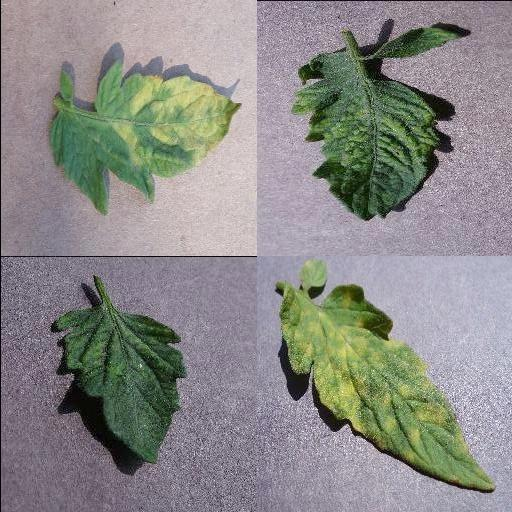Leaf Mold: (277, 260, 497, 491), (47, 60, 243, 216)
Mosaic Virus: (290, 26, 464, 224), (48, 305, 190, 465)
